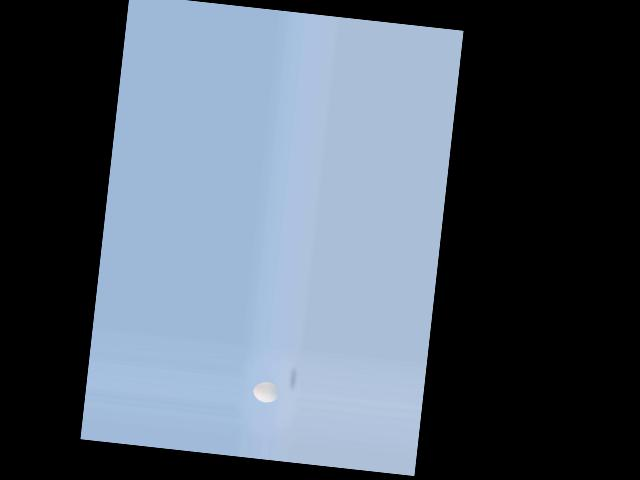egg: (252, 380, 280, 404)
